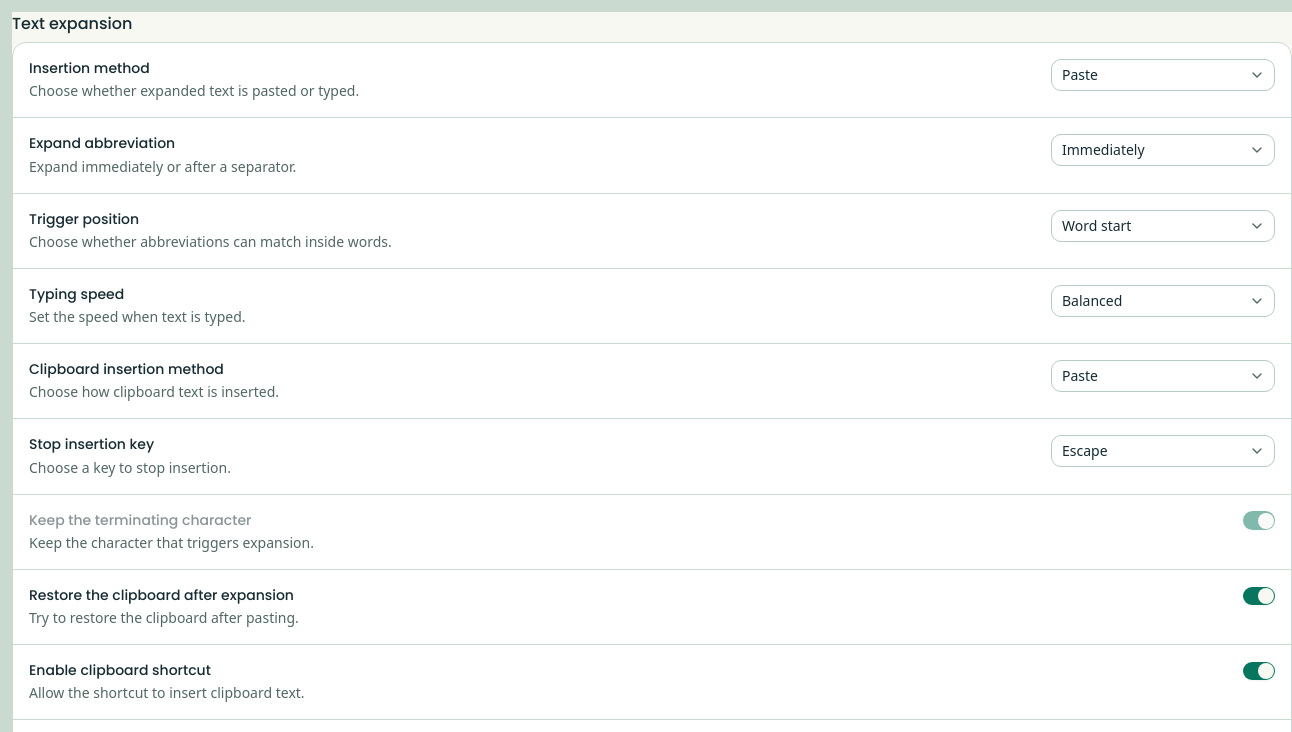
preserves the terminating character preference when switching activation modes
The width and height of the screenshot is (1292, 732).
Expected: the switch named "Keep the terminating character" in the row of "Keep the terminating character" is disabled, x1=1243 y1=511 x2=1275 y2=530
Expected: the switch named "Keep the terminating character" in the row of "Keep the terminating character" is checked, x1=1243 y1=511 x2=1275 y2=530
Select "After Space or punctuation" in the dropdown labelled "Expand abbreviation" at (1163, 150), box x1=1051 y1=134 x2=1275 y2=166
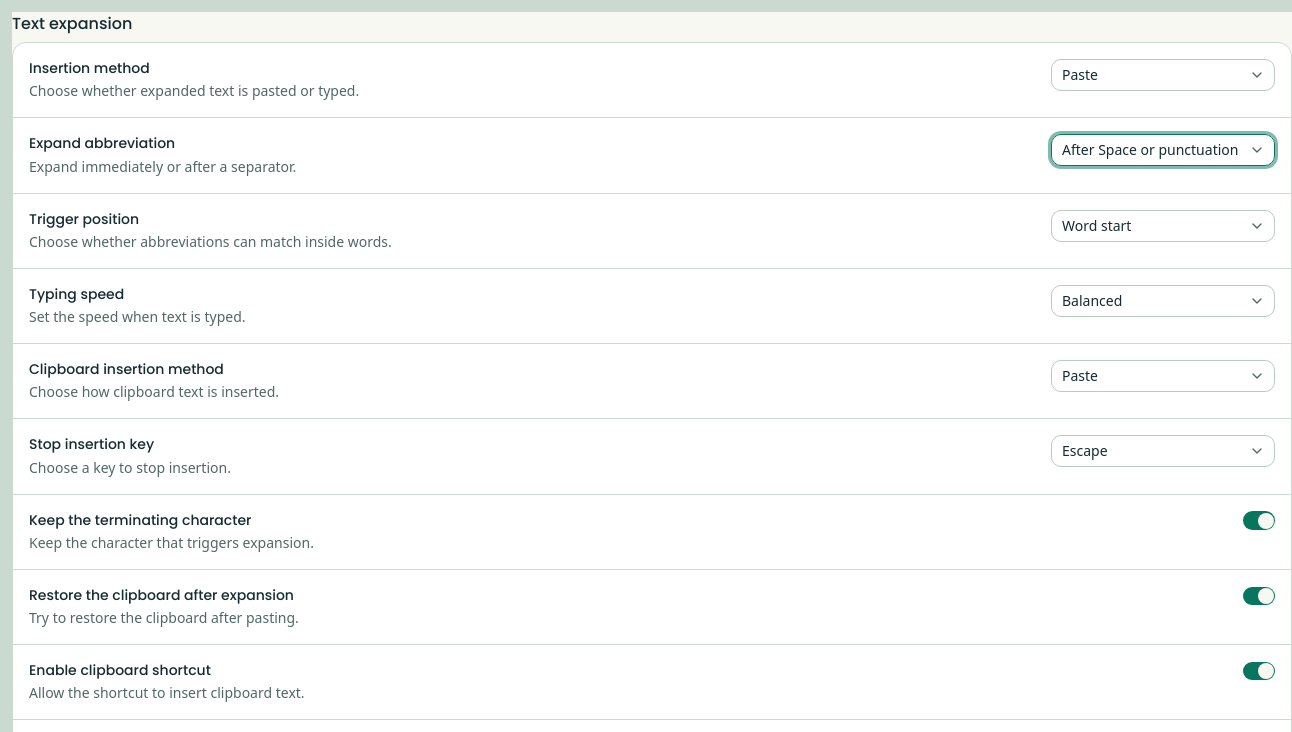
Result: the switch named "Keep the terminating character" in the row of "Keep the terminating character" is enabled
Click the switch named "Keep the terminating character" in the row of "Keep the terminating character".
click(1259, 520)  # box x1=1243 y1=511 x2=1275 y2=530
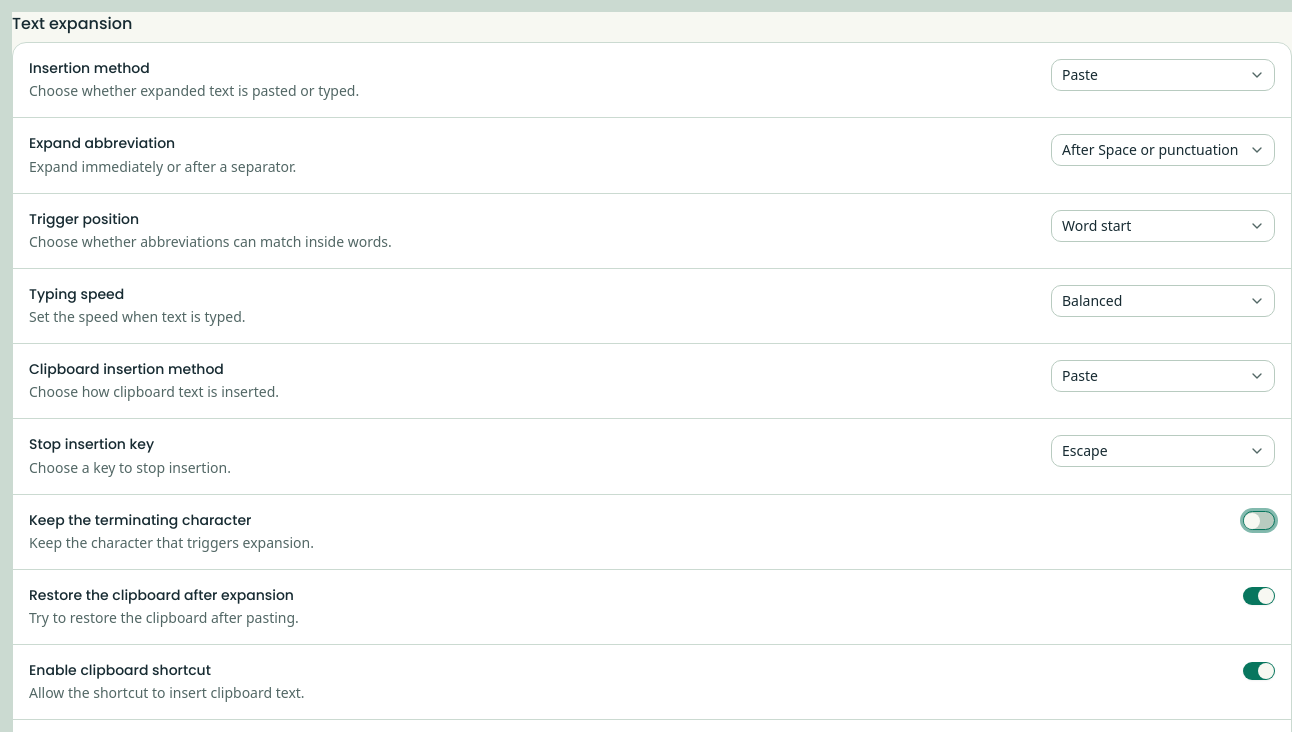
Select "Immediately" in the dropdown labelled "Expand abbreviation" at (1163, 150), box x1=1051 y1=134 x2=1275 y2=166
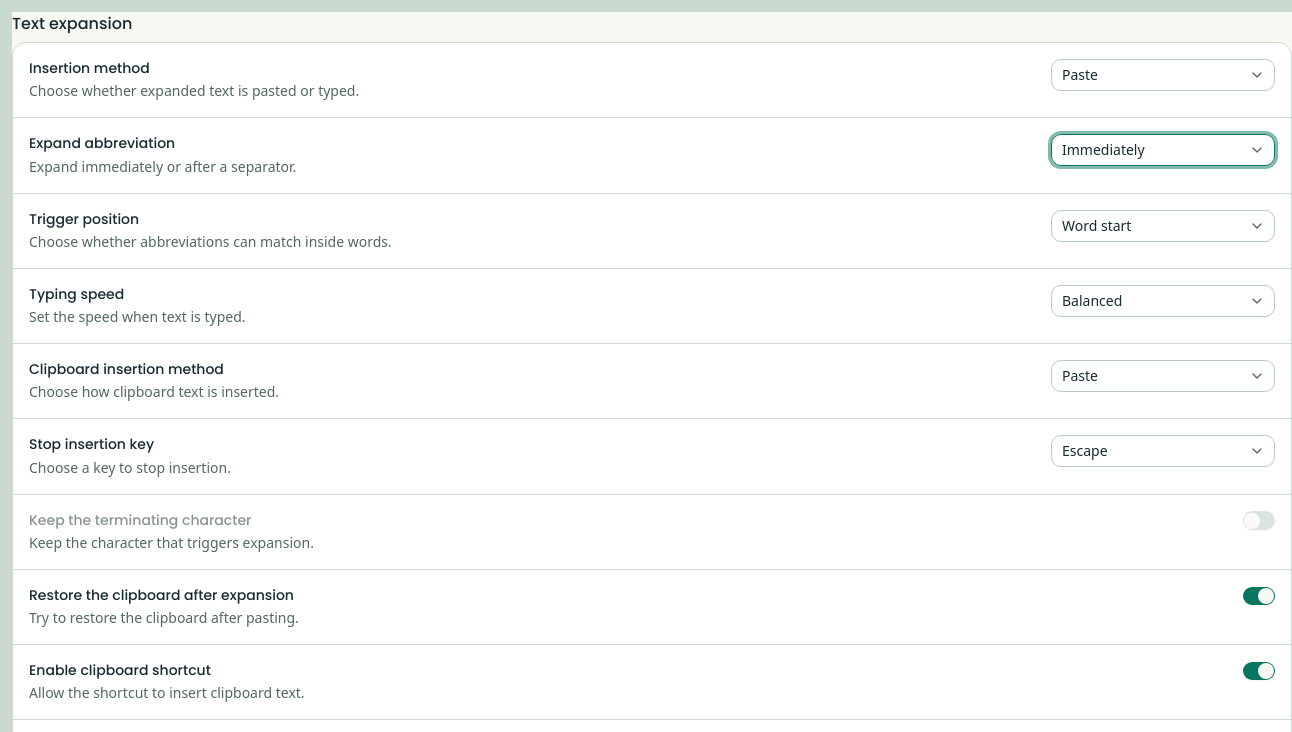
Result: the switch named "Keep the terminating character" in the row of "Keep the terminating character" is not checked at x1=1243 y1=511 x2=1275 y2=530
Result: the switch named "Keep the terminating character" in the row of "Keep the terminating character" is disabled at x1=1243 y1=511 x2=1275 y2=530
